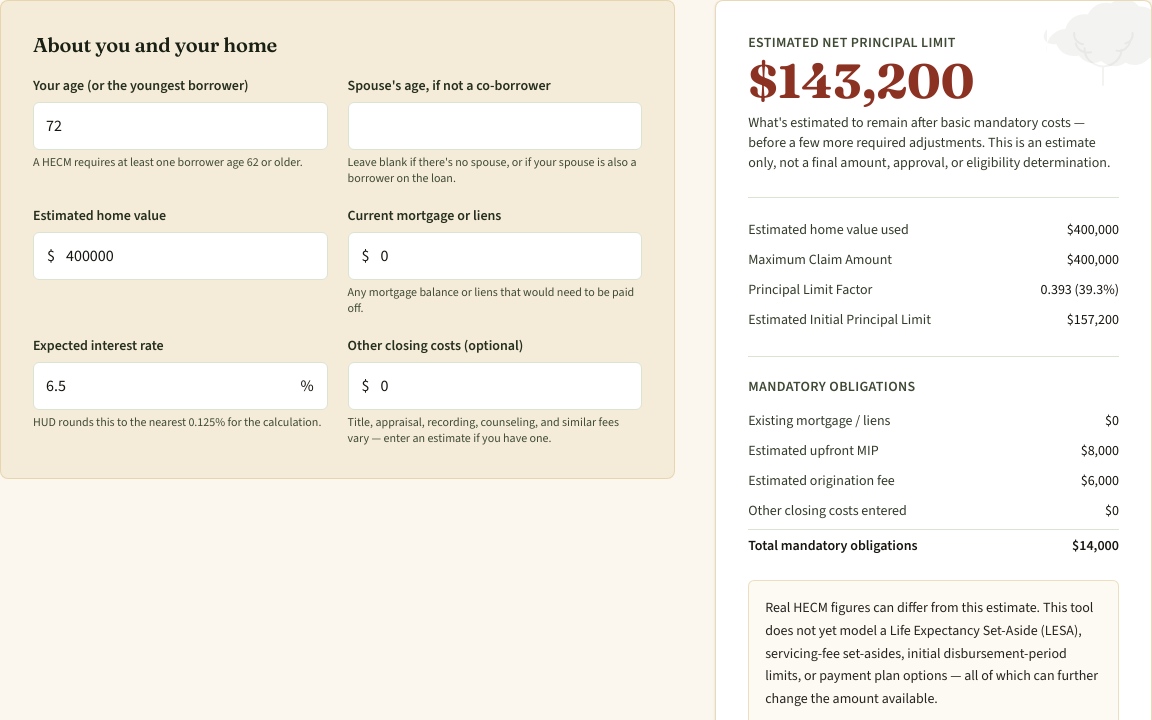
Test case: HomeEquityExplorer — renders and calculates › caps the Maximum Claim Amount at the 2026 HUD limit when home value is entered above it
This screenshot has width=1152, height=720.
Replace the text in the number field labelled "Estimated home value" with "3000000": (180, 256) [33,232,328,280]
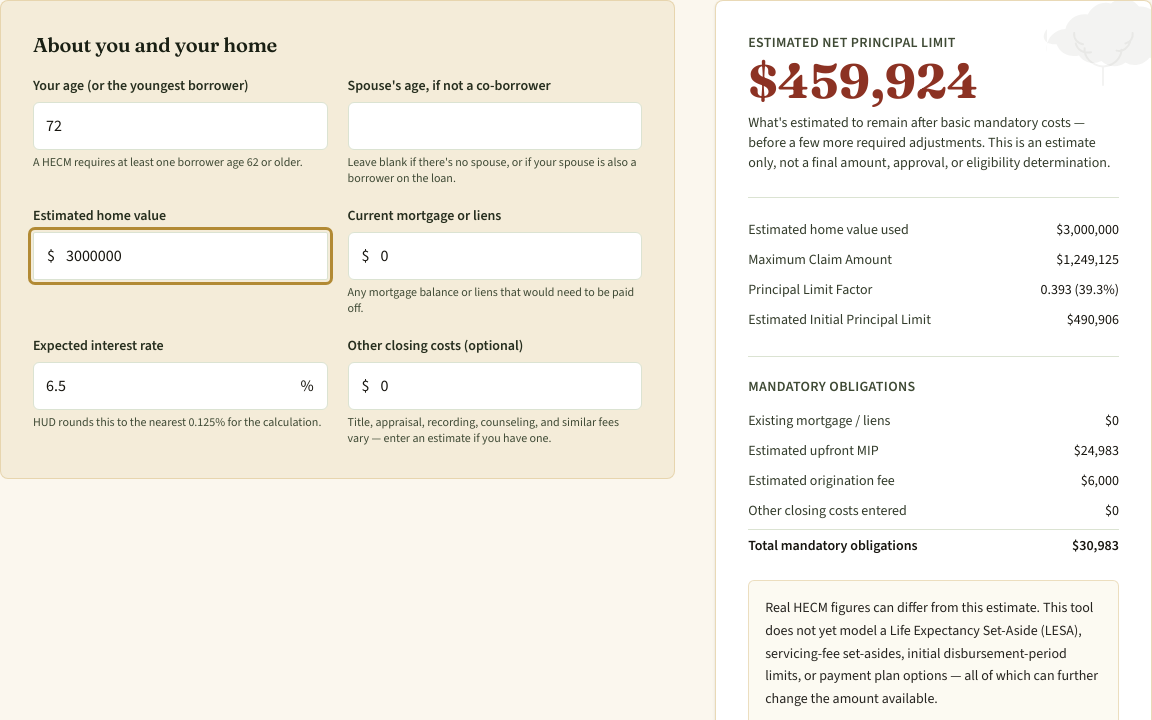
Now the text "$1,249,125" is shown, box [1056,250,1119,270]
